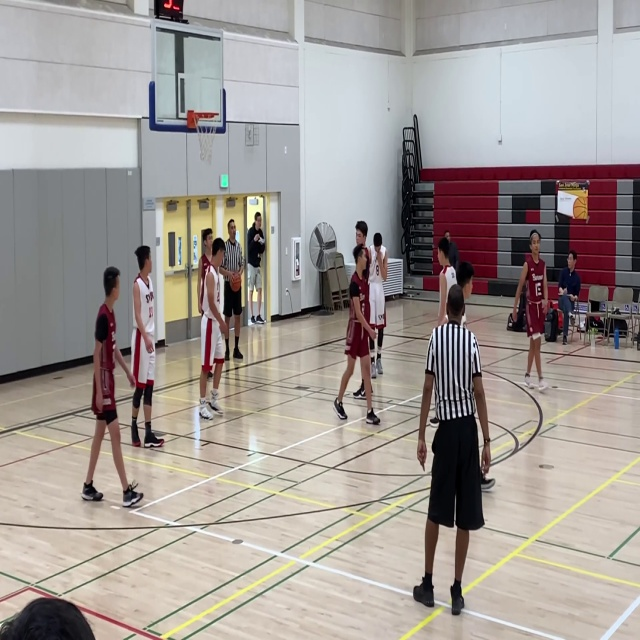Basketball: (229, 272, 241, 291)
